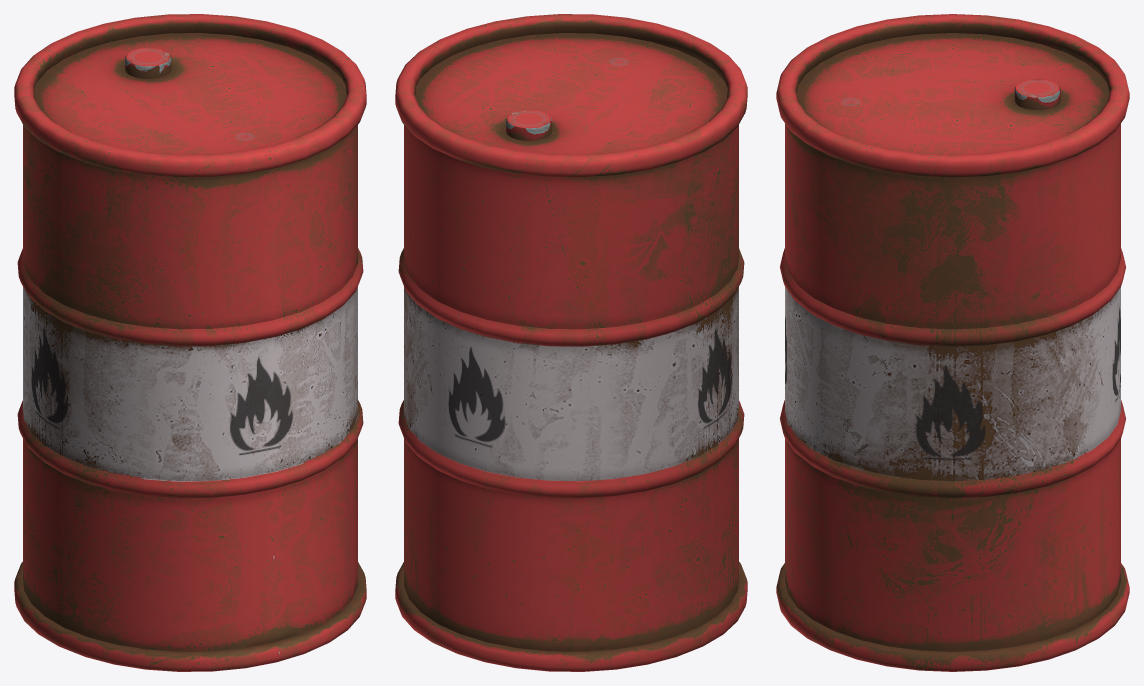
File: explosive_barrel.fbx
3 renders of one model, left to right at view 1: azimuth 30°, elevation 25°; view 2: azimuth 150°, elevation 25°; view 3: azimuth 270°, elevation 25°, orthographic.
Visible parts, largest first — view 1: ExplosiveBarrelLOD0; view 2: ExplosiveBarrelLOD0; view 3: ExplosiveBarrelLOD0.
Boxes of the visible parts, x1,y1,x2,y2 form: ExplosiveBarrelLOD0: [14, 14, 366, 671]; ExplosiveBarrelLOD0: [395, 14, 747, 671]; ExplosiveBarrelLOD0: [776, 14, 1129, 671].
Size of what is drawn, in the model's own units: 0.3337 by 0.5342 by 0.3337.
Materials: 1 (1 with a texture image).
